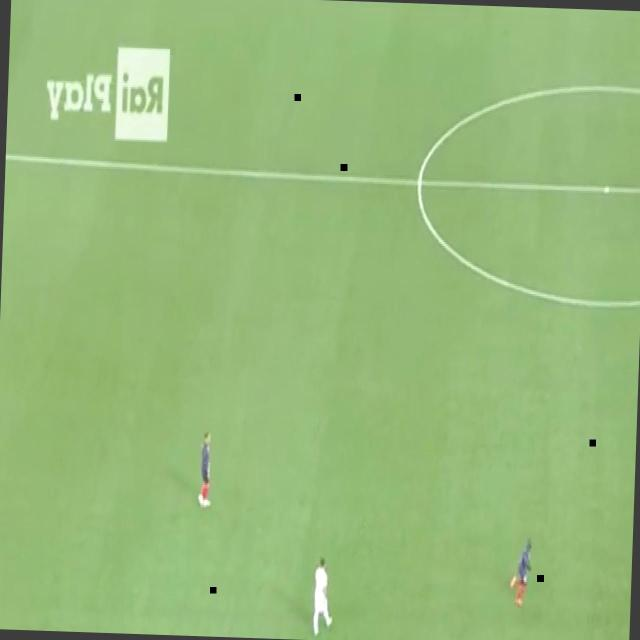player-white: (506, 533, 536, 611), (311, 552, 337, 640), (196, 429, 214, 512)
